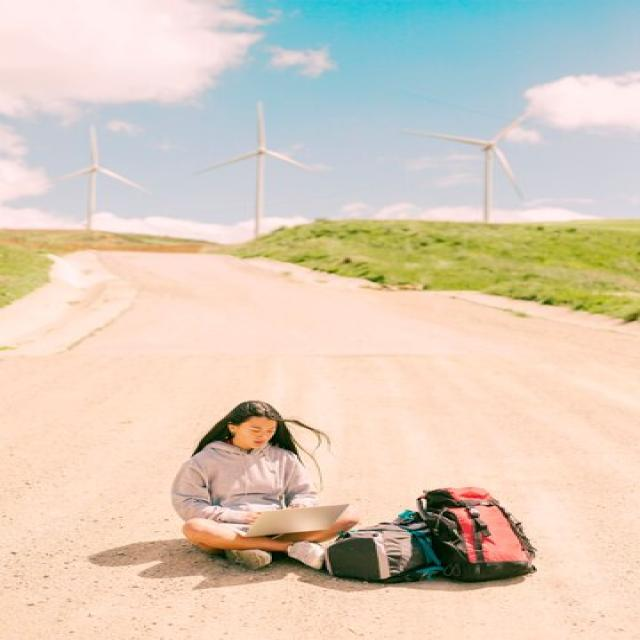solid-blade: (493, 149, 523, 198), (101, 167, 145, 189), (266, 151, 309, 170), (90, 124, 98, 165), (258, 104, 265, 149)
